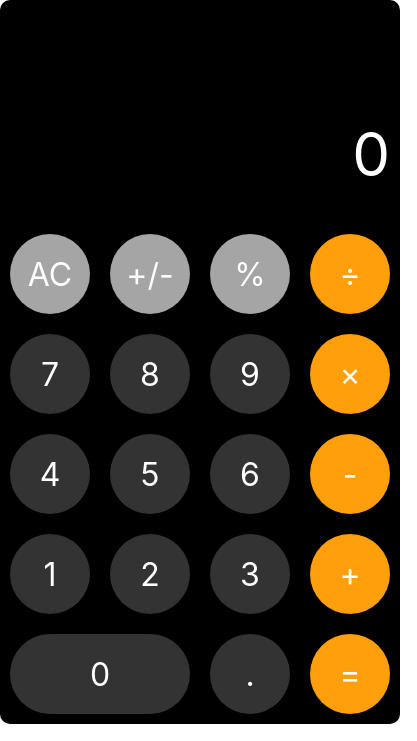
Test: Calculator › ACTIONS › should correctly clear
Click the element with test id "1" at (50, 574), box [10, 534, 90, 614]
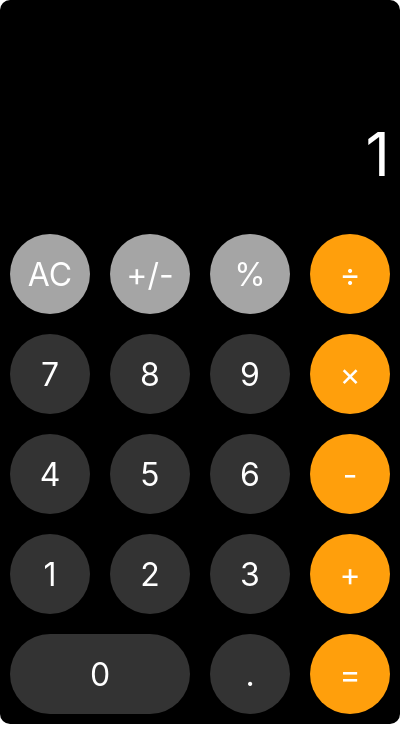
Click the element with test id "2" at (150, 574), box [110, 534, 190, 614]
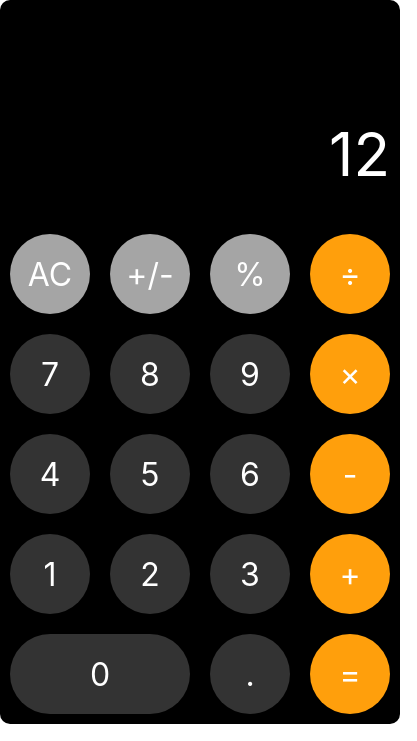
Click the element with test id "AC" at (50, 274), box [10, 234, 90, 314]
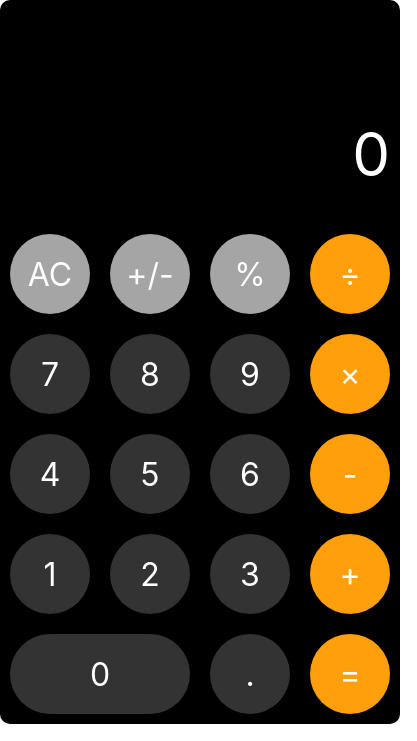
expect the text with test id "calculator-result" reads "0": met, box [352, 118, 390, 190]
